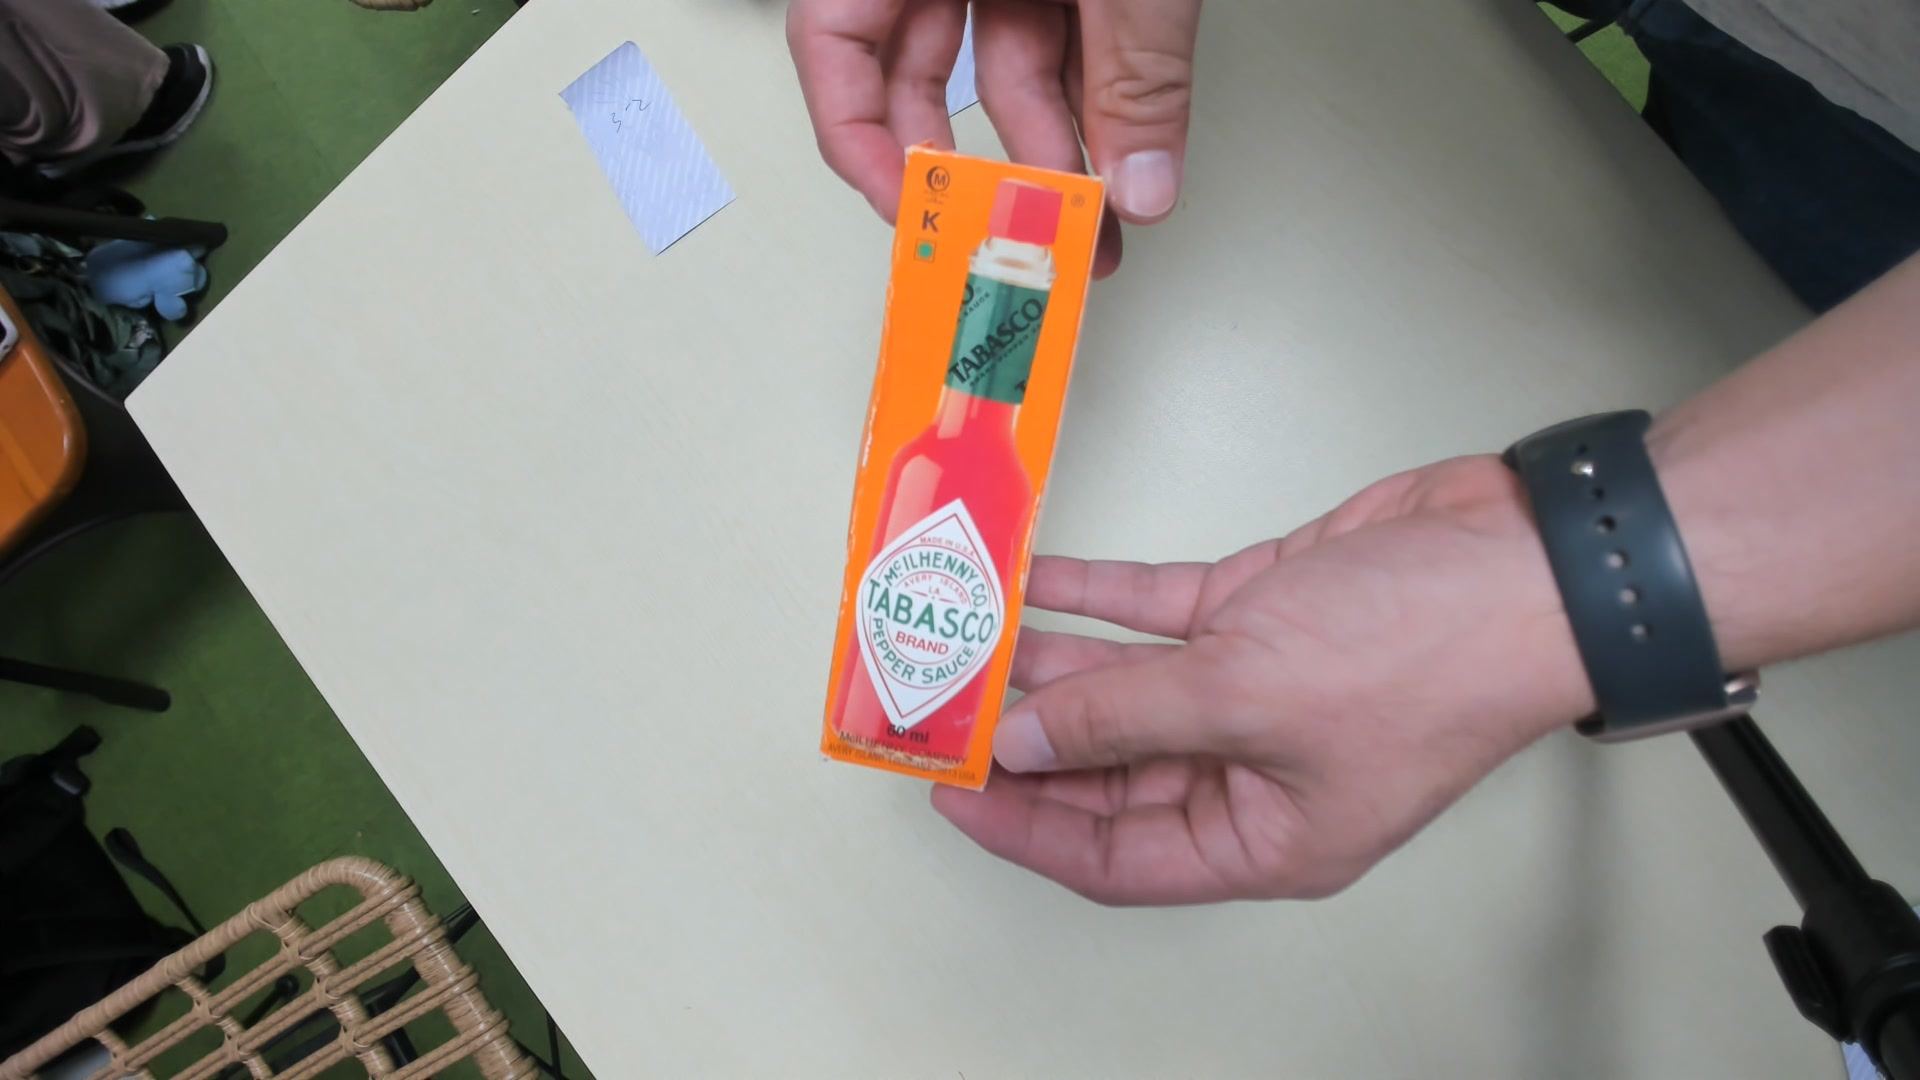KetchupChillSauce_0-99g_NonHalal_NonHealthy: (825, 133, 1122, 802)
